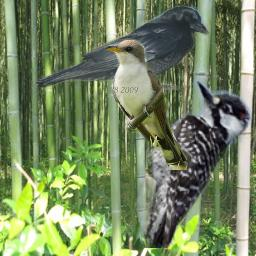Crow: (34, 5, 209, 90)
Cuckoo: (104, 38, 187, 170)
Woodpecker: (113, 75, 251, 248)
